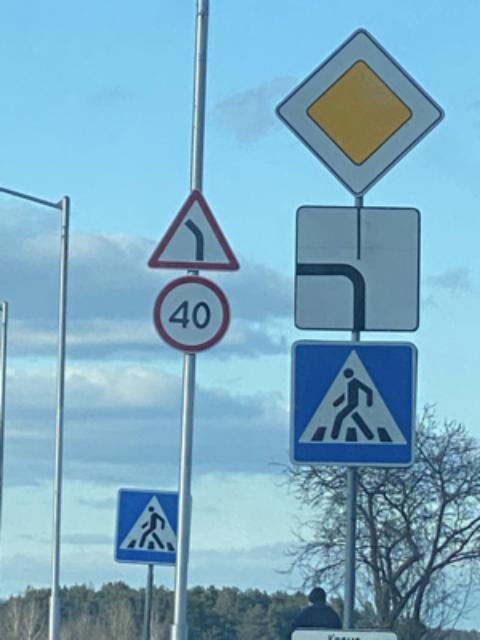crosswalk-sign: (292, 344, 420, 476), (122, 489, 185, 563)
